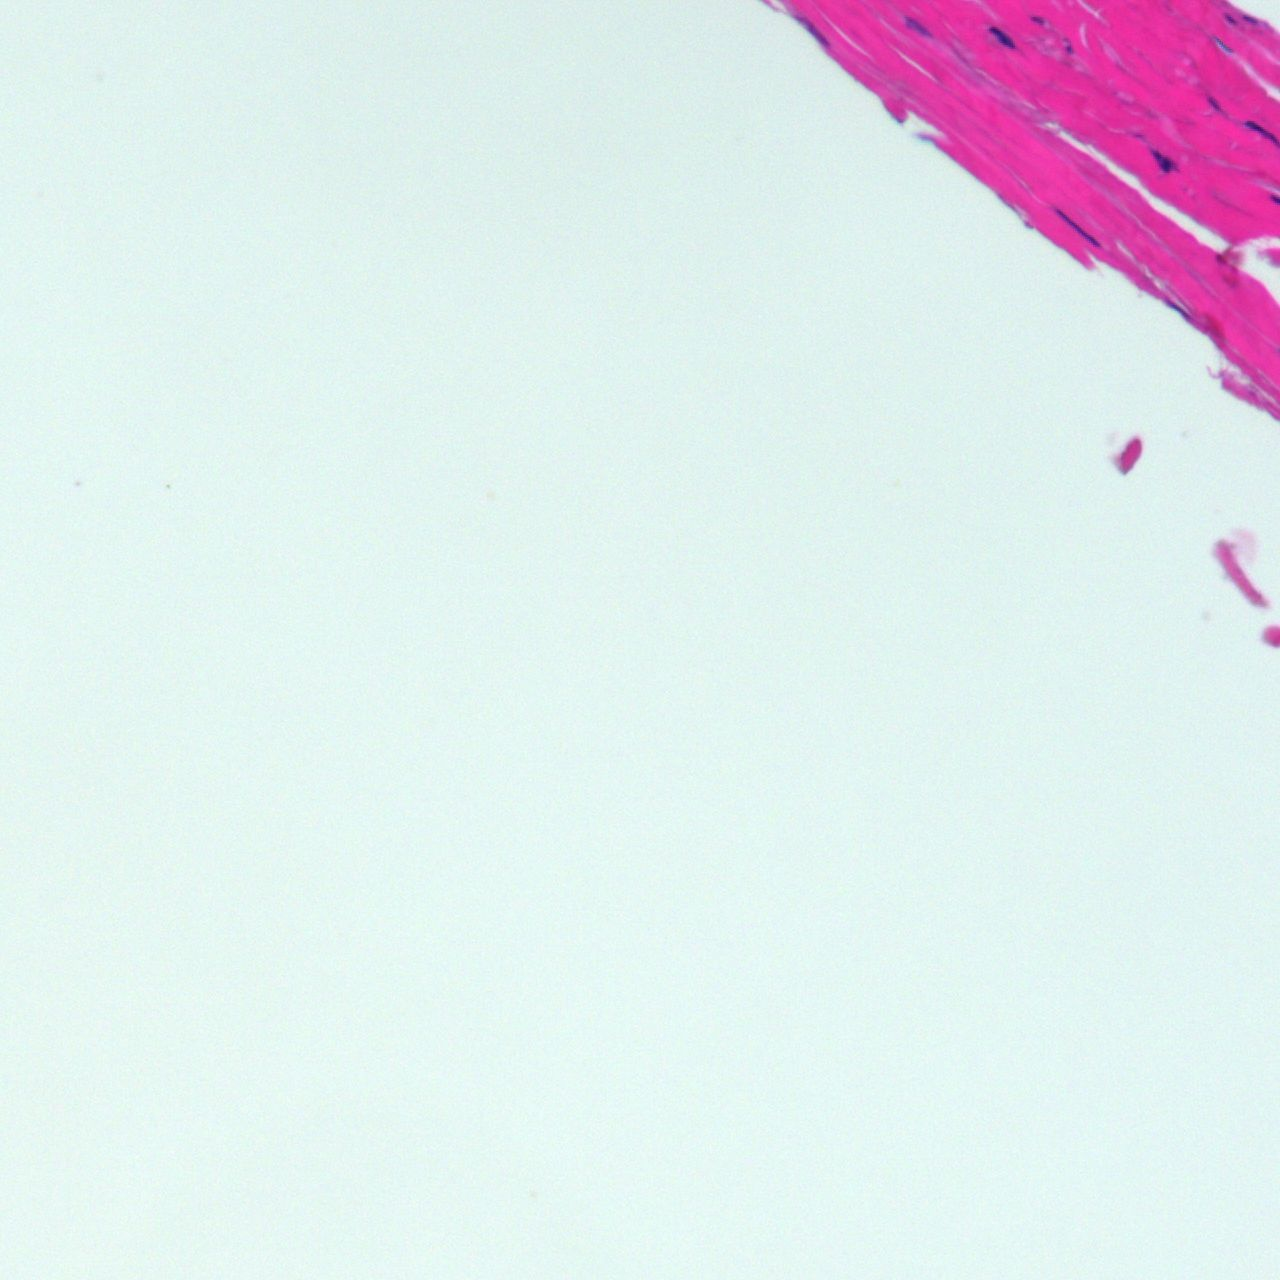nucleus-HE: (1048, 199, 1105, 256), (1159, 292, 1197, 329), (1143, 142, 1181, 179), (1240, 115, 1280, 147), (982, 19, 1018, 54), (797, 14, 830, 49), (898, 12, 933, 43), (1202, 91, 1225, 117), (1211, 32, 1233, 55), (1221, 10, 1239, 27), (1028, 13, 1045, 24), (1241, 13, 1259, 22), (1063, 40, 1073, 54)
